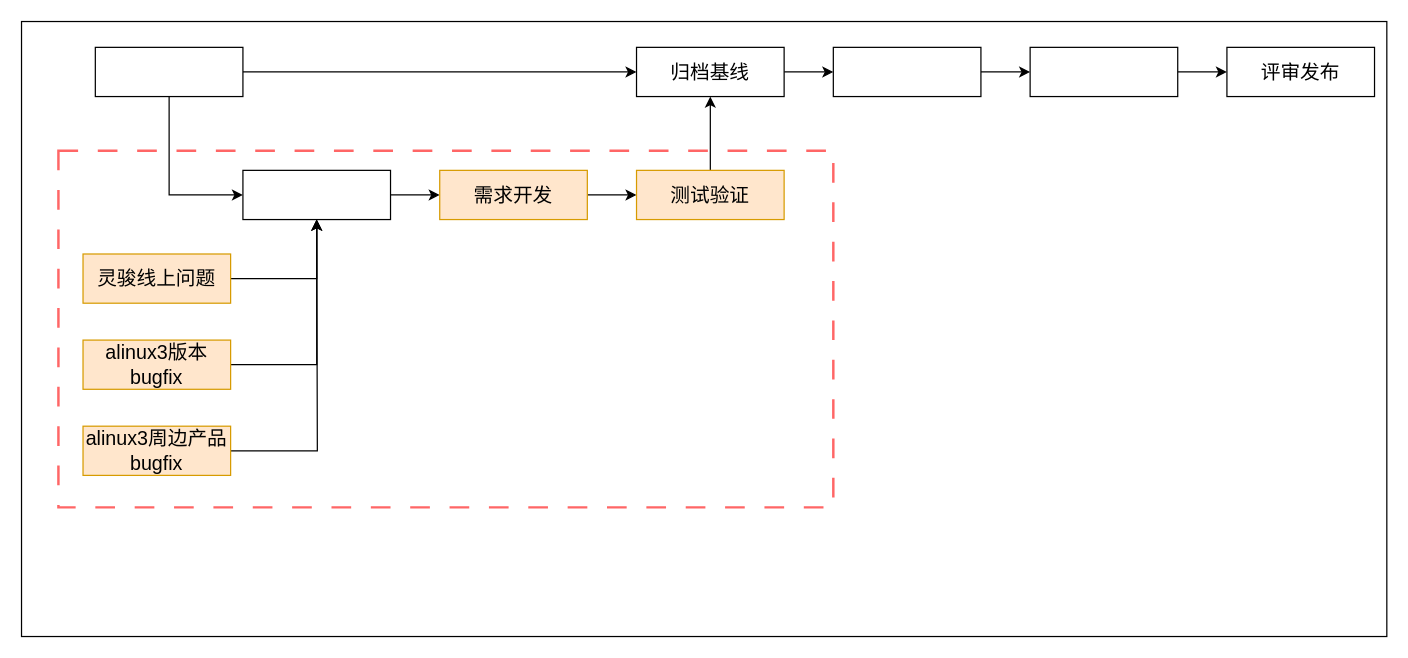
Some shapes in this 1408 by 658 pixel diagram are drawn without their labels. The box of each missing label's shape, as (x1, y1, x2, y2) in pixels:
OS侧需求变动: (242, 169, 391, 220)
产品需求: (94, 46, 243, 97)
镜像制作: (832, 46, 981, 97)
集成验证: (1029, 46, 1178, 97)
